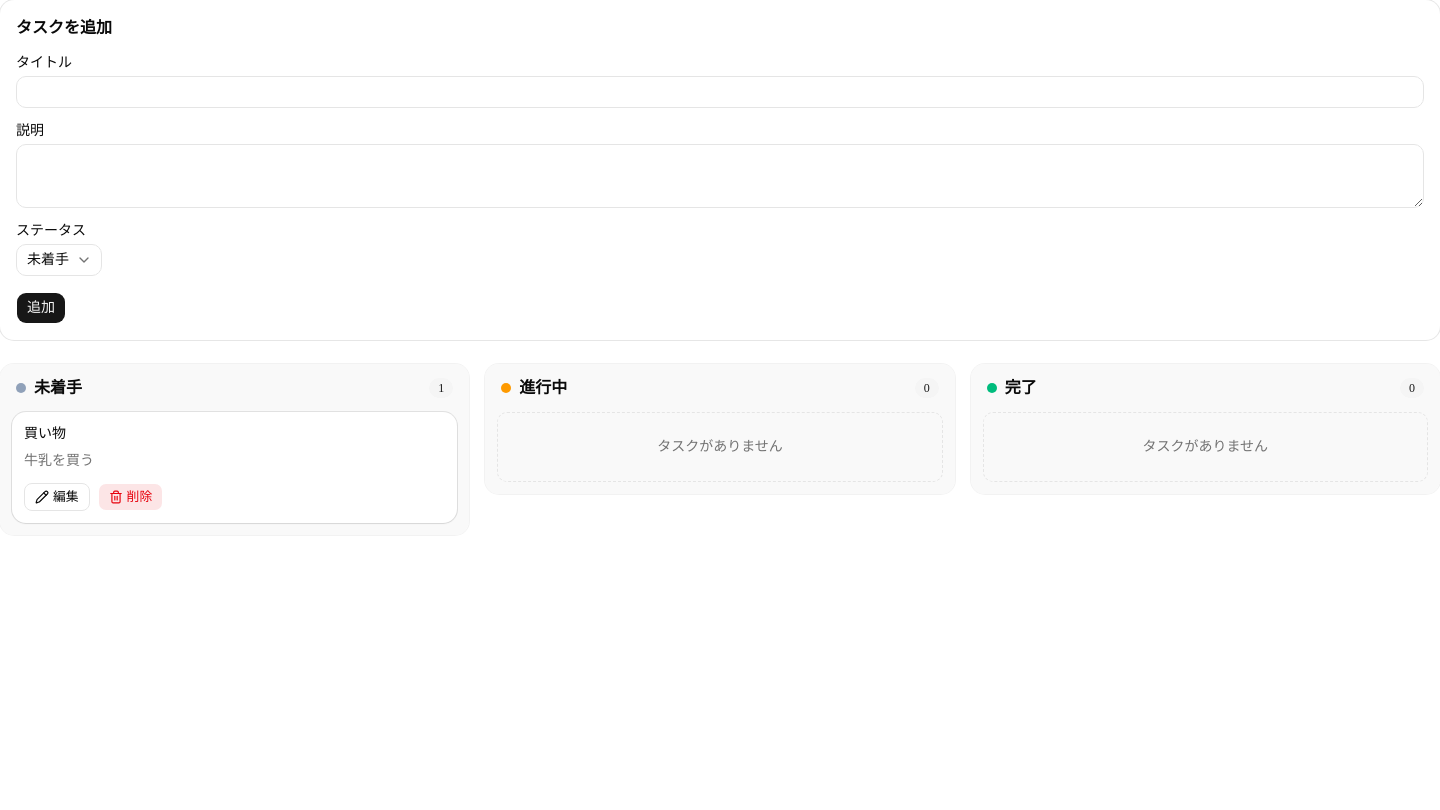
Test case: 削除 › 削除に失敗したとき、エラーを表示しタスクは一覧に残る
Expected: the element "未着手" is shown, x1=0 y1=364 x2=469 y2=535
Click the button with aria-label "買い物を削除" at (130, 497), box x1=98 y1=483 x2=163 y2=511
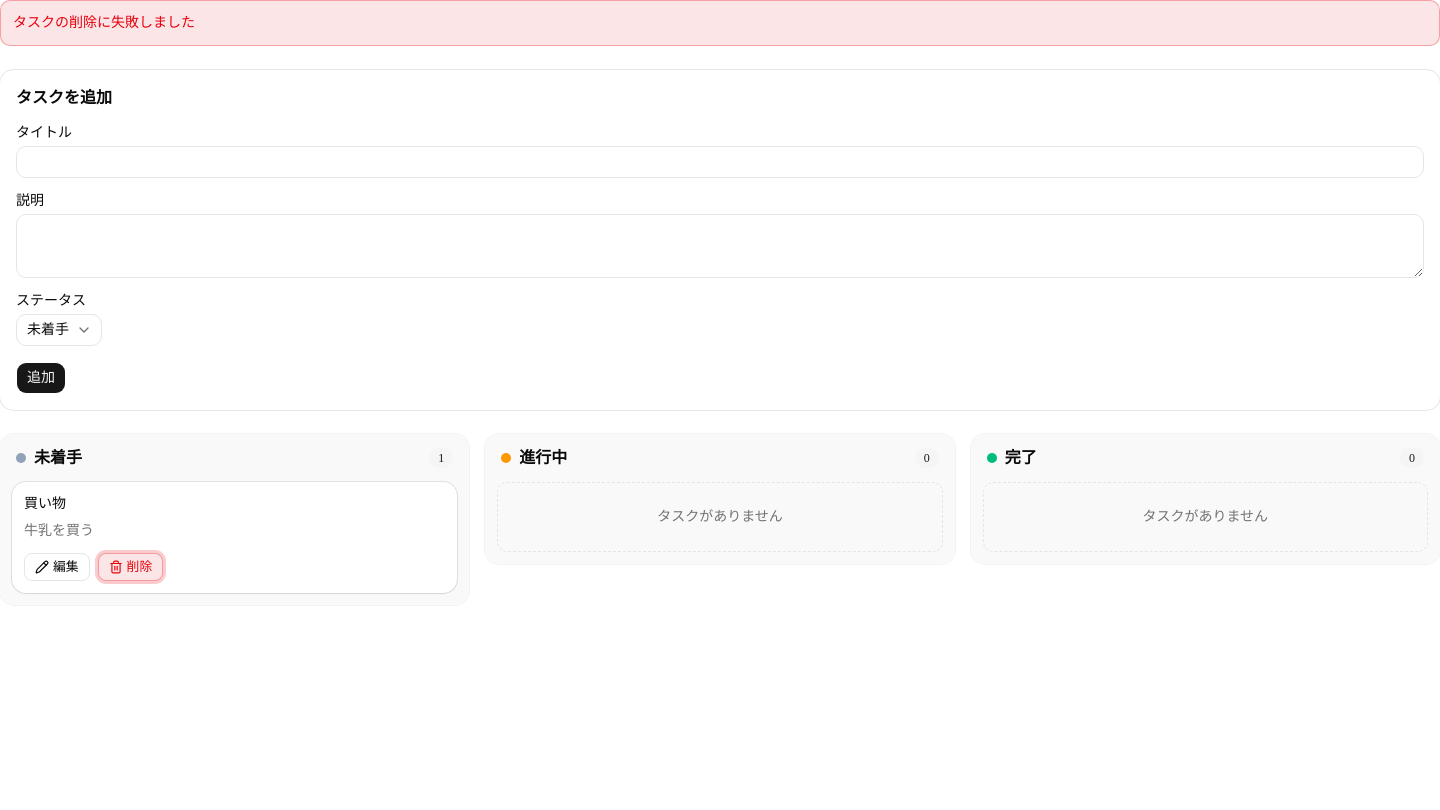
Expected: the heading "買い物" is shown, x1=24 y1=496 x2=66 y2=511
Expected: the message reads "タスクの削除に失敗しました", x1=13 y1=15 x2=195 y2=30
